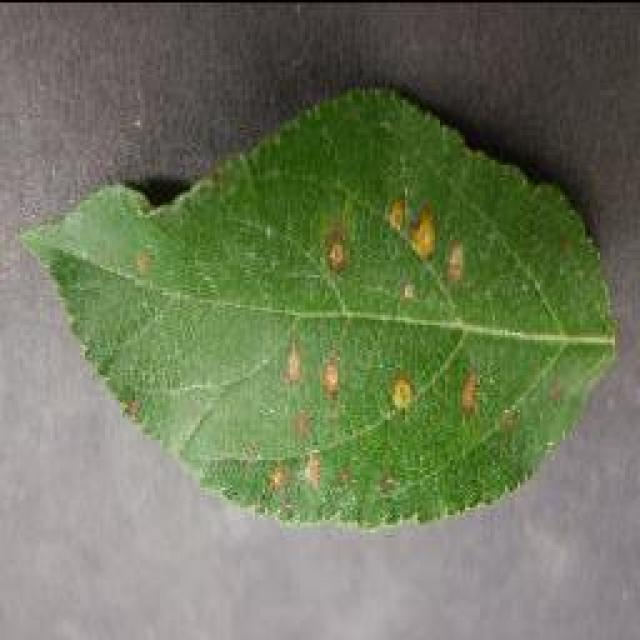apple healthy: (18, 80, 620, 532)
